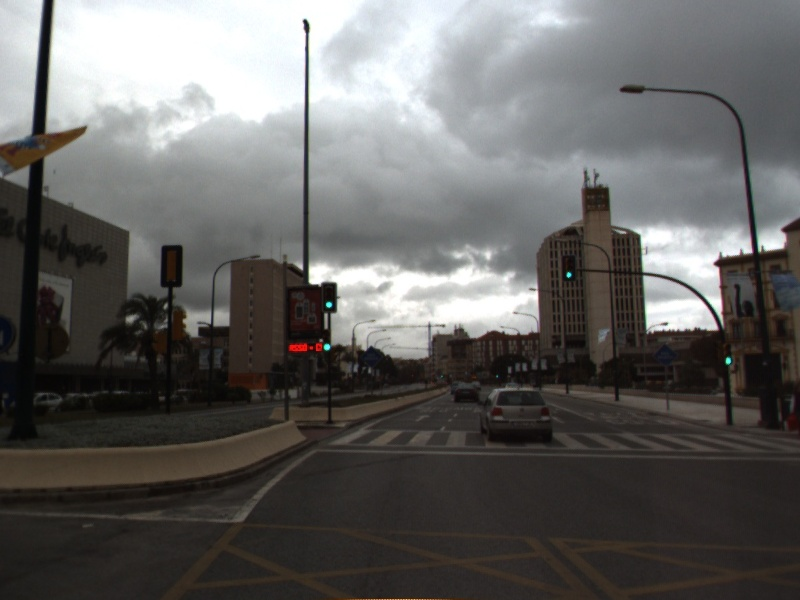STRAIGHT: (413, 412, 432, 424)
